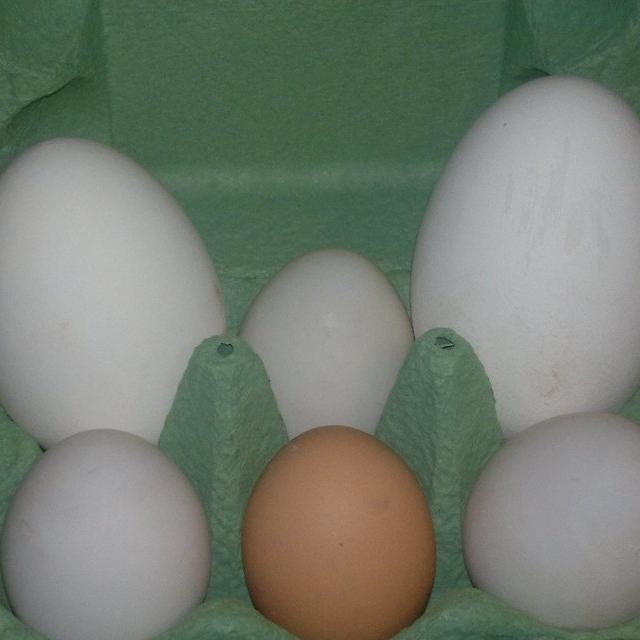egg: (240, 424, 435, 640)
